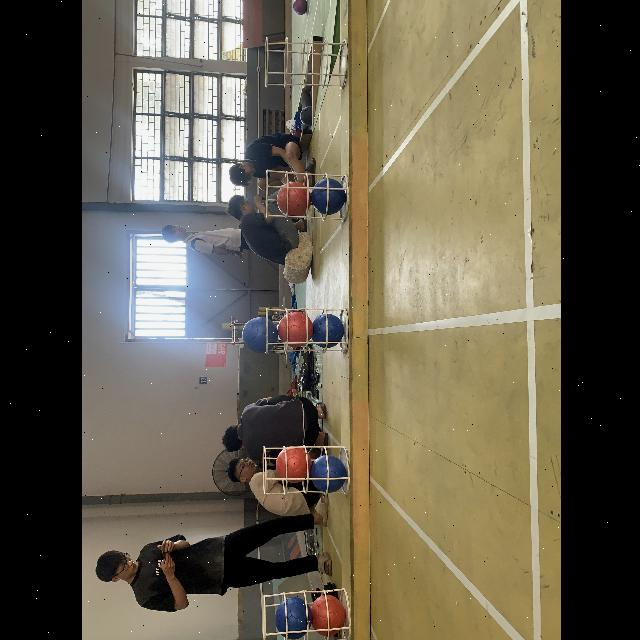B: (274, 597, 310, 639), (309, 178, 345, 216), (241, 316, 277, 352), (310, 455, 344, 493), (310, 312, 342, 348)
R: (309, 596, 343, 636), (274, 446, 310, 482), (276, 312, 312, 348), (276, 182, 308, 218)
